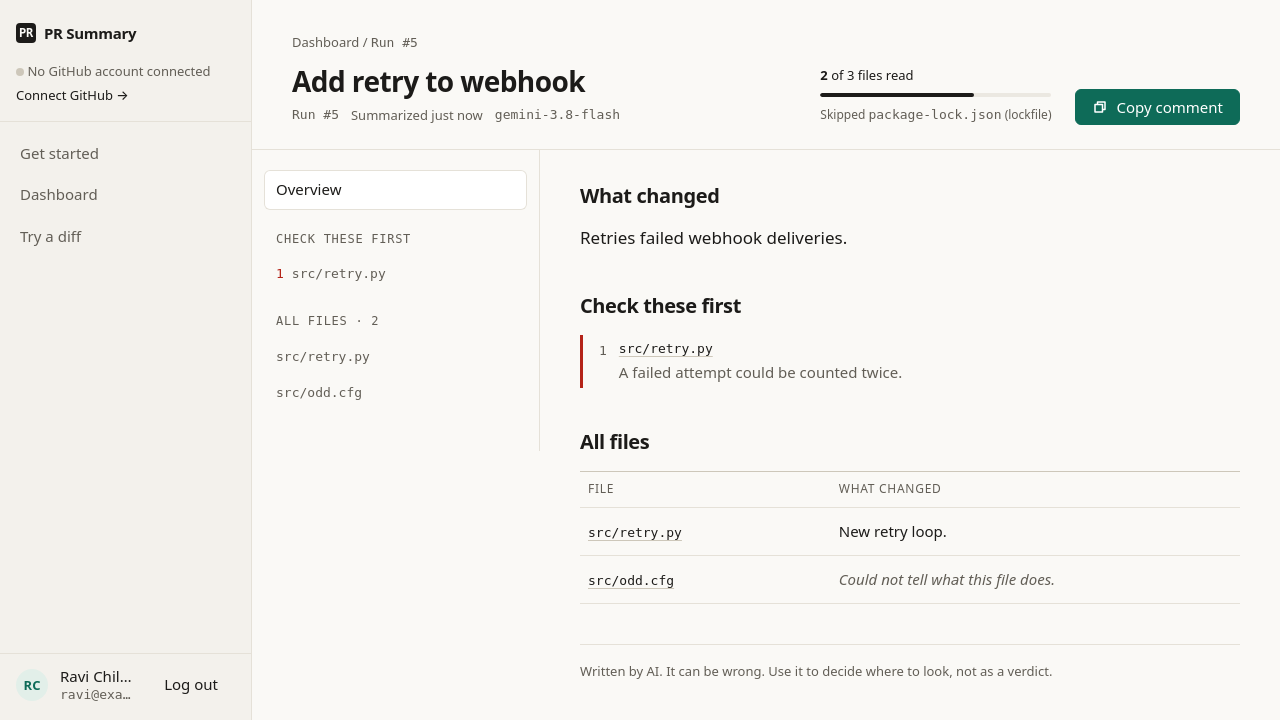
Scenario: Summary page › opens a file: check-first reason, AI note, and says the diff isn't stored
Expected: the text "Retries failed webhook deliveries." is shown, [580,226,847,250]
Click the button "1 src/retry.py". click: (339, 274)
box: [264,256,527,292]
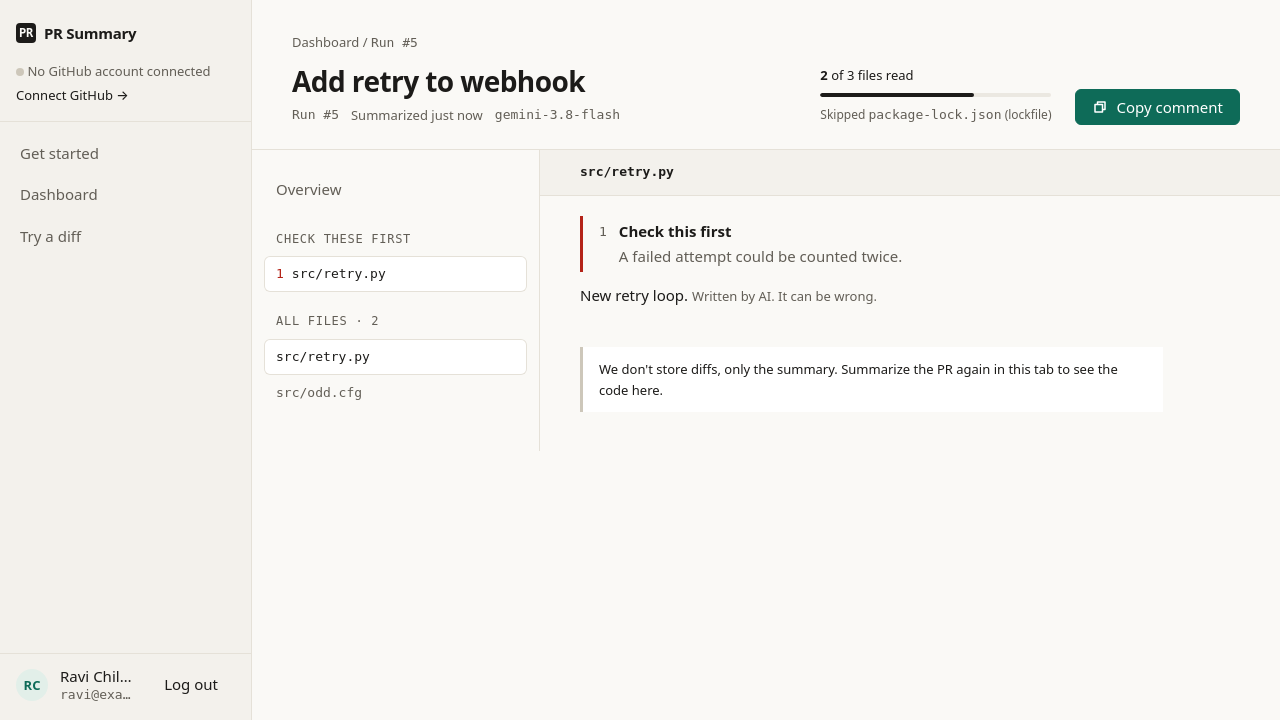
Expected: the text "A failed attempt could be counted twice." is shown, [619,246,902,266]
Expected: the text "New retry loop." is shown, [580,285,688,305]
Expected: the text "We don't store diffs" is shown, [599,360,1118,398]
